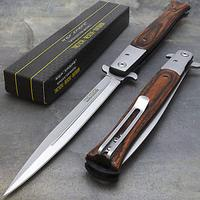knife: (2, 2, 181, 198)
